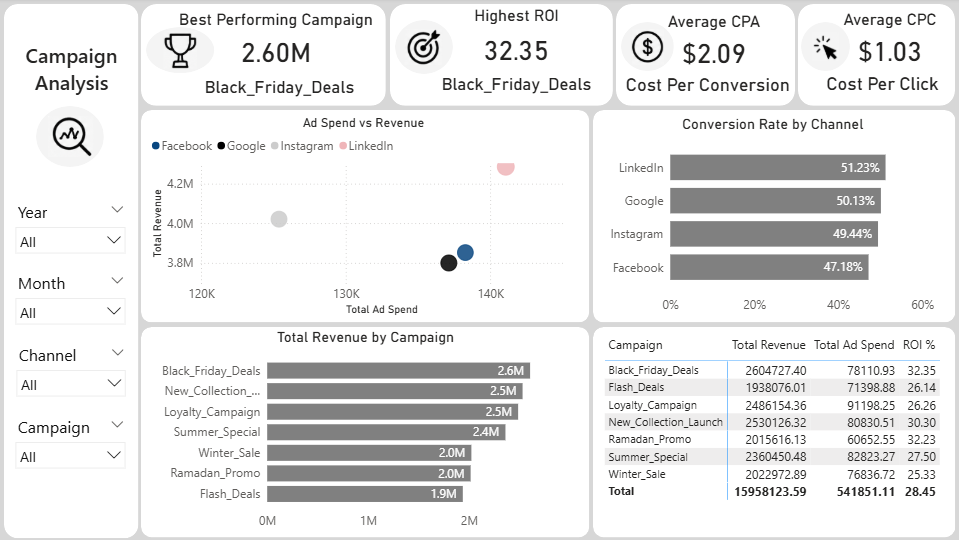

What the dashboard file says about the page in this screenshot:
{"tool":"powerbi","page":{"name":"Campaign Analysis","canvas":[1280,720],"ordinal":1},"visuals":[{"type":"shape","box":[7.3,7.3,178.5,709.8],"z":0},{"type":"textbox","box":[13.3,51.8,168.7,85],"z":1000},{"type":"shape","box":[190,8,325.5,135.5],"z":2000},{"type":"shape","box":[1062.7,8,208.6,135.5],"z":3000},{"type":"shape","box":[821,8,237.8,135.5],"z":4000},{"type":"shape","box":[520.7,8,296.2,135.5],"z":5000},{"type":"card","title":"Best Performing Campaign","fields":{"Values":["All Measures.Best Campaign Revenue"]},"box":[232.5,15.9,273.7,82.4],"z":6000},{"type":"card","fields":{"Values":["All Measures.Best Campaign"]},"box":[241.8,97,264.4,41.2],"z":7000},{"type":"card","title":"Highest ROI","fields":{"Values":["All Measures.Highest ROI"]},"box":[576.5,10.6,224.5,87.7],"z":8000},{"type":"card","fields":{"Values":["All Measures.Highest ROI Campaign"]},"box":[576.5,86.3,224.5,54.5],"z":9000},{"type":"card","title":"Average CPA","fields":{"Values":["All Measures.CPA"]},"box":[871.4,18.6,159.4,78.4],"z":10000},{"type":"card","title":"Average CPC","fields":{"Values":["All Measures.CPC"]},"box":[1103.9,15.9,162.1,78.4],"z":11000},{"type":"textbox","box":[821,97,237.8,46.5],"z":12000},{"type":"textbox","box":[1092,95.6,166.1,45.2],"z":13000},{"type":"slicer","fields":{"Values":["Calendar.Year"]},"box":[13.3,264.4,166.1,94.3],"z":14000},{"type":"slicer","fields":{"Values":["Calendar.Month"]},"box":[13.3,358.7,166.1,95.6],"z":15000},{"type":"slicer","fields":{"Values":["FactMarketing.Channel"]},"box":[14.6,453.7,165.4,95.1],"z":16000},{"type":"slicer","fields":{"Values":["FactMarketing.Campaign"]},"box":[13.3,550,166.1,95.6],"z":17000},{"type":"shape","box":[190.2,149.3,595.6,282.4],"z":18000},{"type":"scatterChart","title":"Ad Spend vs Revenue","fields":{"X":["All Measures.Total Ad Spend"],"Y":["All Measures.Total Revenue"],"Size":["Sum(FactMarketing.Conversions)"],"Series":["FactMarketing.Channel"]},"box":[197.6,155.1,575.1,270.7],"z":19000},{"type":"shape","box":[790.2,149.3,481.5,282.4],"z":20000},{"type":"clusteredBarChart","fields":{"Category":["FactMarketing.Channel"],"Y":["All Measures.Conversion Rate"]},"box":[800.5,155.1,456.6,272.2],"z":21000},{"type":"shape","box":[190.2,437.6,595.6,279.5],"z":22000},{"type":"shape","box":[790.2,437.6,481.5,279.5],"z":23000},{"type":"clusteredBarChart","fields":{"Y":["All Measures.Total Revenue"],"Category":["FactMarketing.Campaign"]},"box":[200.5,439,575.1,276.6],"z":24000},{"type":"pivotTable","fields":{"Rows":["FactMarketing.Campaign"],"Values":["All Measures.Total Revenue","All Measures.Total Ad Spend","All Measures.ROI %"]},"box":[800.5,443.4,456.6,266.3],"z":25000},{"type":"shape","box":[50.5,143.5,90.3,81],"z":26000},{"type":"image","box":[59.8,156.8,74.4,54.5],"z":27000},{"type":"shape","box":[196.1,38,90.7,61.5],"z":28000},{"type":"image","box":[210.7,43.9,61.5,49.8],"z":29000},{"type":"shape","box":[527.4,29.2,77,71.7],"z":30000},{"type":"image","box":[535.4,41.2,59.8,47.8],"z":31000},{"type":"shape","box":[827.6,31.9,70.4,65.1],"z":32000},{"type":"image","box":[835.6,41.2,55.8,47.8],"z":33000},{"type":"shape","box":[1066.7,31.9,65.1,65.1],"z":34000},{"type":"image","box":[1074.7,45.2,49.2,38.5],"z":35000}]}

Visuals, with their boxes in screenshot pixels (x1, y1, x2, y2), scaled from the page's 1280x720 canvas onto the 959x540 screenshot:
shape: 5,5,139,538
textbox: 10,39,136,103
shape: 142,6,386,108
shape: 796,6,952,108
shape: 615,6,793,108
shape: 390,6,612,108
"Best Performing Campaign" card: 174,12,379,74
card - All Measures.Best Campaign: 181,73,379,104
"Highest ROI" card: 432,8,600,74
card - All Measures.Highest ROI Campaign: 432,65,600,106
"Average CPA" card: 653,14,772,73
"Average CPC" card: 827,12,949,71
textbox: 615,73,793,108
textbox: 818,72,943,106
slicer - Calendar.Year: 10,198,134,269
slicer - Calendar.Month: 10,269,134,341
slicer - FactMarketing.Channel: 11,340,135,412
slicer - FactMarketing.Campaign: 10,412,134,484
shape: 143,112,589,324
"Ad Spend vs Revenue" scatterChart: 148,116,579,319
shape: 592,112,953,324
clusteredBarChart - FactMarketing.Channel x All Measures.Conversion Rate: 600,116,942,320
shape: 143,328,589,538
shape: 592,328,953,538
clusteredBarChart - All Measures.Total Revenue x FactMarketing.Campaign: 150,329,581,537
pivotTable - FactMarketing.Campaign x All Measures.Total Revenue: 600,333,942,532
shape: 38,108,105,168
image: 45,118,101,158
shape: 147,28,215,75
image: 158,33,204,70
shape: 395,22,453,76
image: 401,31,446,67
shape: 620,24,673,73
image: 626,31,668,67
shape: 799,24,848,73
image: 805,34,842,63
